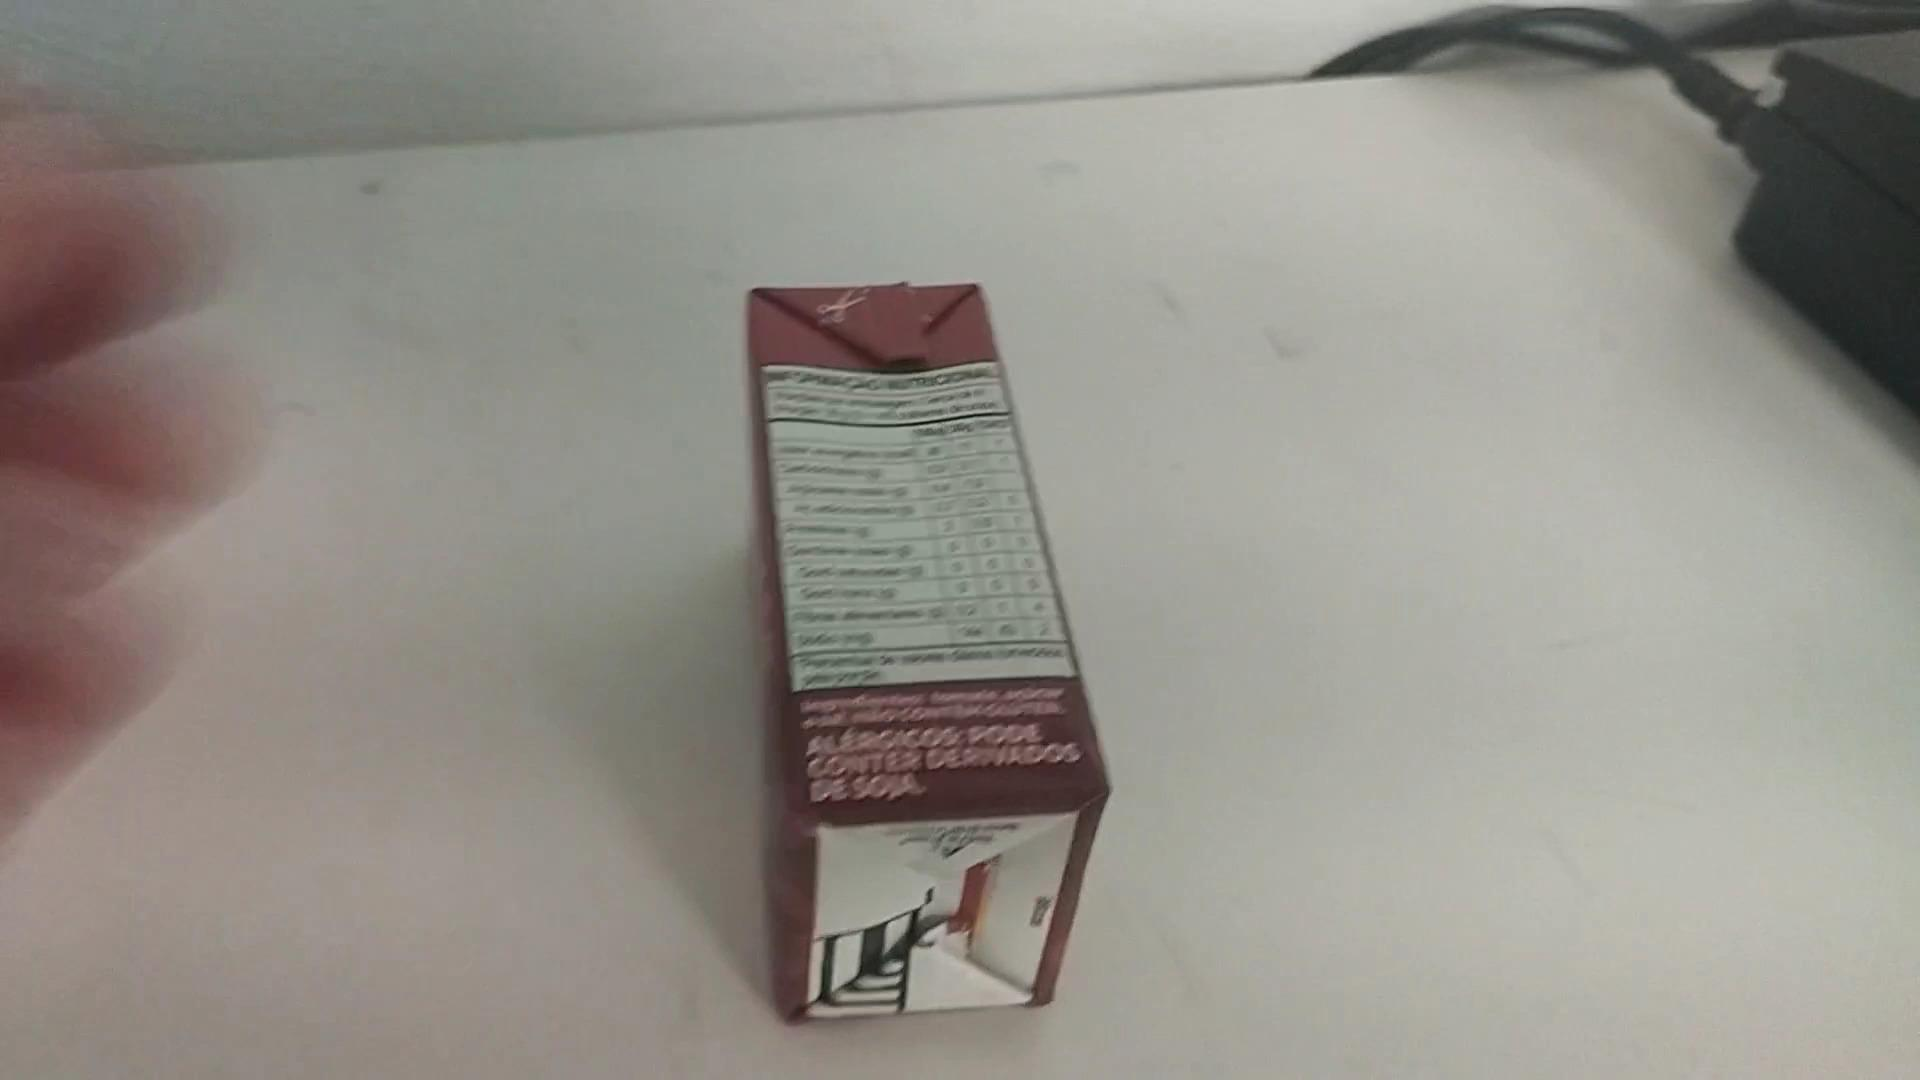tomate: (738, 284, 1113, 1029)
